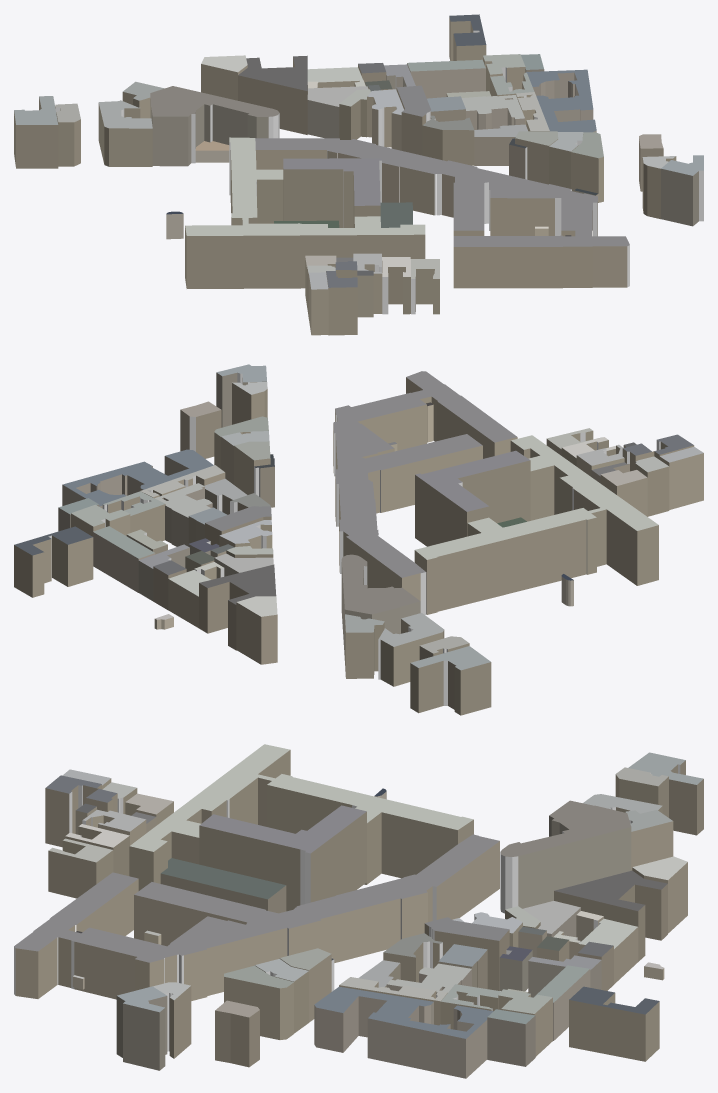
3 views of the same model, one above another, from view 1: azimuth 30°, elevation 25°; view 2: azimuth 150°, elevation 25°; view 3: azimuth 270°, elevation 25° (orthographic). The views are drawn at different scales.
Visible parts, largest first — view 1: tuile; view 2: tuile; view 3: tuile.
Boxes of the visible parts, <box> form: tuile: <box>14,14,703,335</box>; tuile: <box>14,364,703,715</box>; tuile: <box>14,744,703,1078</box>.
Bounding box in the file's own units: 277 × 34.49 × 290.
